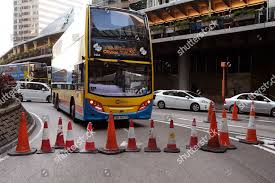car: (155, 91, 216, 111), (223, 94, 275, 115), (16, 82, 52, 102)
cone: (242, 101, 263, 143), (15, 112, 35, 153), (218, 109, 235, 149), (104, 111, 118, 153), (206, 112, 219, 150), (39, 121, 52, 154), (125, 120, 139, 150), (166, 119, 179, 151), (188, 118, 201, 147), (55, 117, 66, 147), (85, 122, 95, 152), (147, 120, 157, 150), (66, 121, 75, 151), (204, 101, 216, 122), (230, 101, 239, 120)
